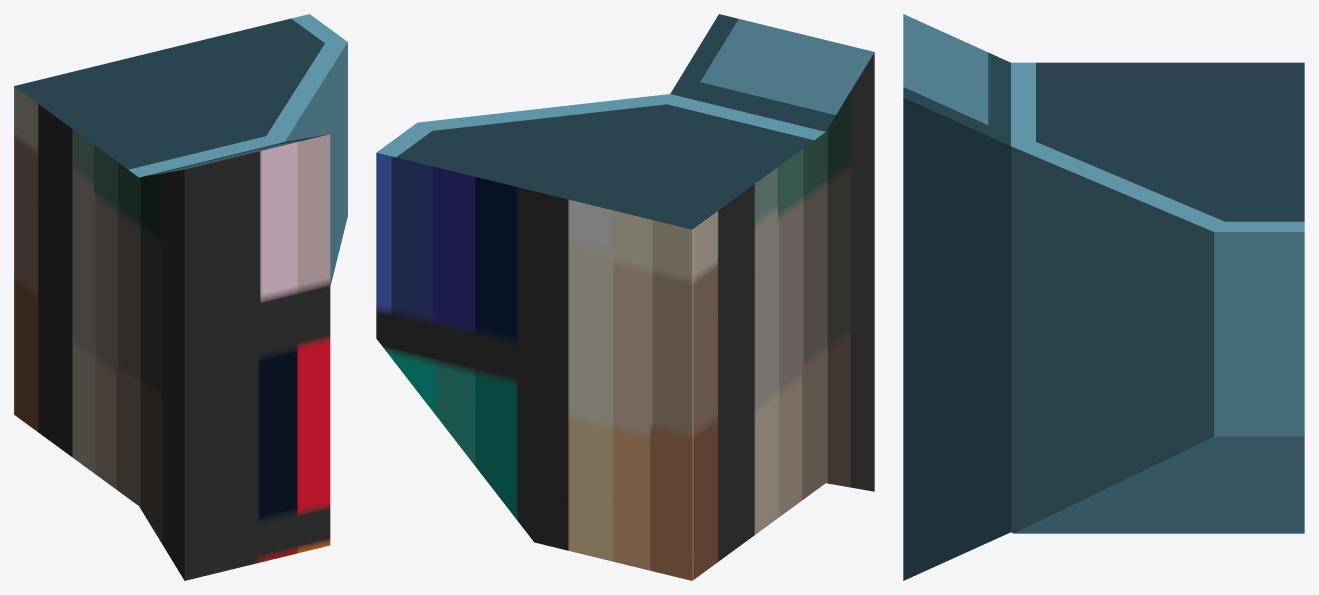
File: tile_7_1_6.gltf
3 renders of one model, left to right at view 1: azimuth 30°, elevation 25°; view 2: azimuth 150°, elevation 25°; view 3: azimuth 270°, elevation 25°, orthographic. The views are drawn at different scales.
Parts seen in each view (by area): view 1: arena.sides.high.047, arena.floor.corners.062; view 2: arena.floor.corners.062, arena.sides.high.047; view 3: arena.floor.corners.062, arena.sides.high.047.
Part boxes in pixels (x1,y1,x2,y2): arena.sides.high.047: (139, 134, 330, 580); arena.floor.corners.062: (14, 14, 347, 505); arena.floor.corners.062: (376, 94, 825, 580); arena.sides.high.047: (670, 14, 874, 491); arena.floor.corners.062: (1011, 62, 1304, 533); arena.sides.high.047: (903, 14, 1010, 580).
Size of the model in its own units: 8 by 10.64 by 8.
Materials: 1 (1 with a texture image).
